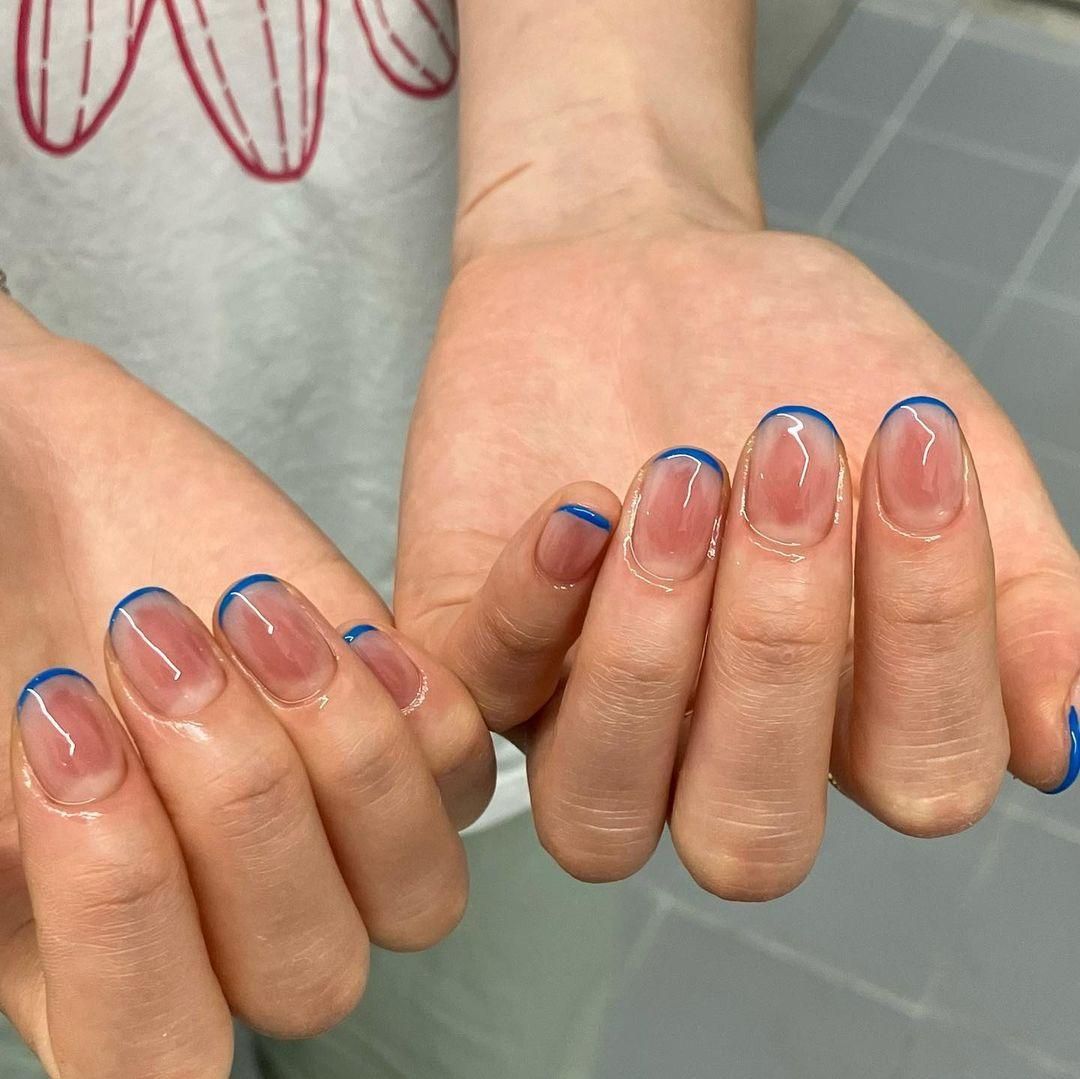nail: (213, 571, 338, 708), (106, 584, 227, 720), (15, 666, 127, 807), (622, 444, 729, 589), (739, 403, 842, 549), (872, 394, 966, 538), (337, 619, 428, 716), (534, 501, 612, 585), (1038, 703, 1079, 794)
